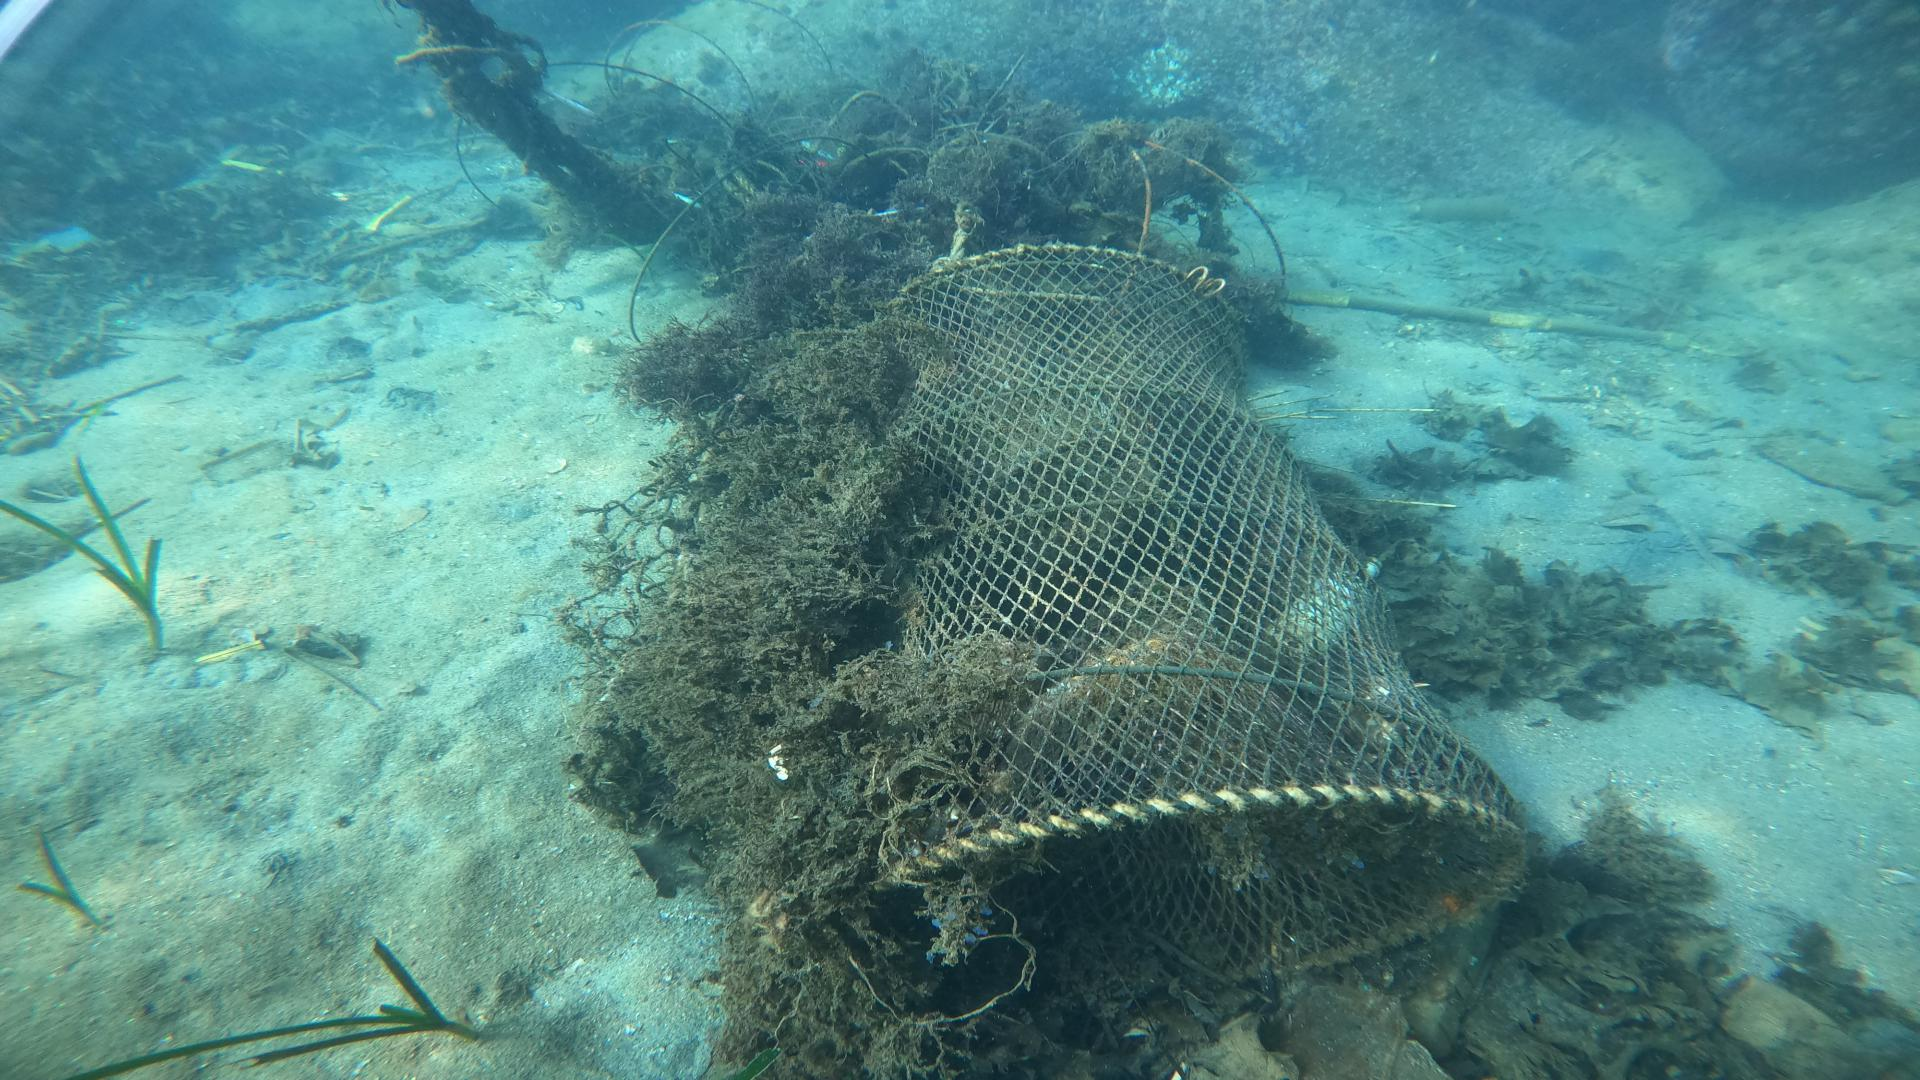spring fish trap: (866, 240, 1534, 996)
